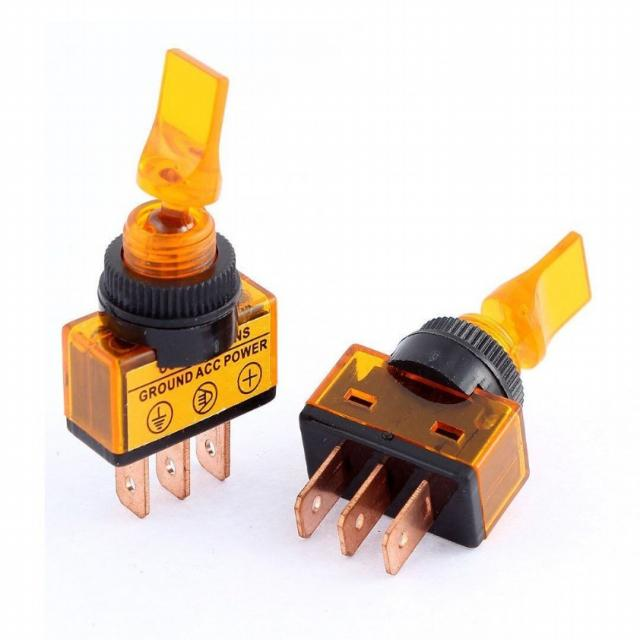toggle switch: (96, 49, 242, 324), (407, 230, 594, 405)
